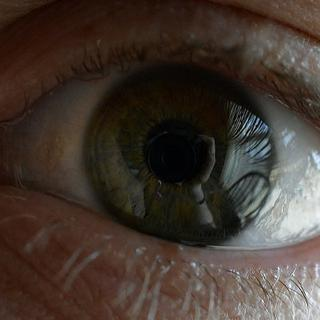iris: (78, 54, 274, 249)
